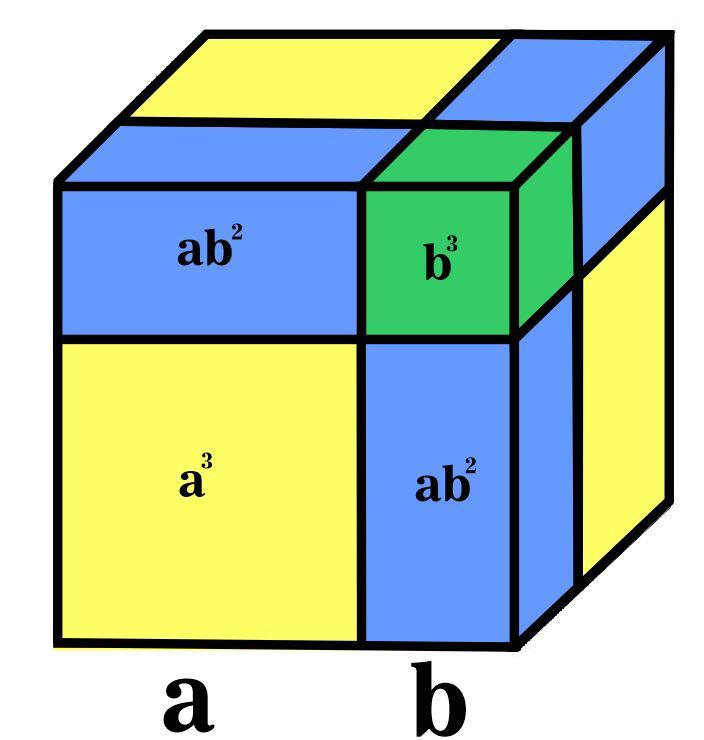cubos: (37, 20, 687, 667)
